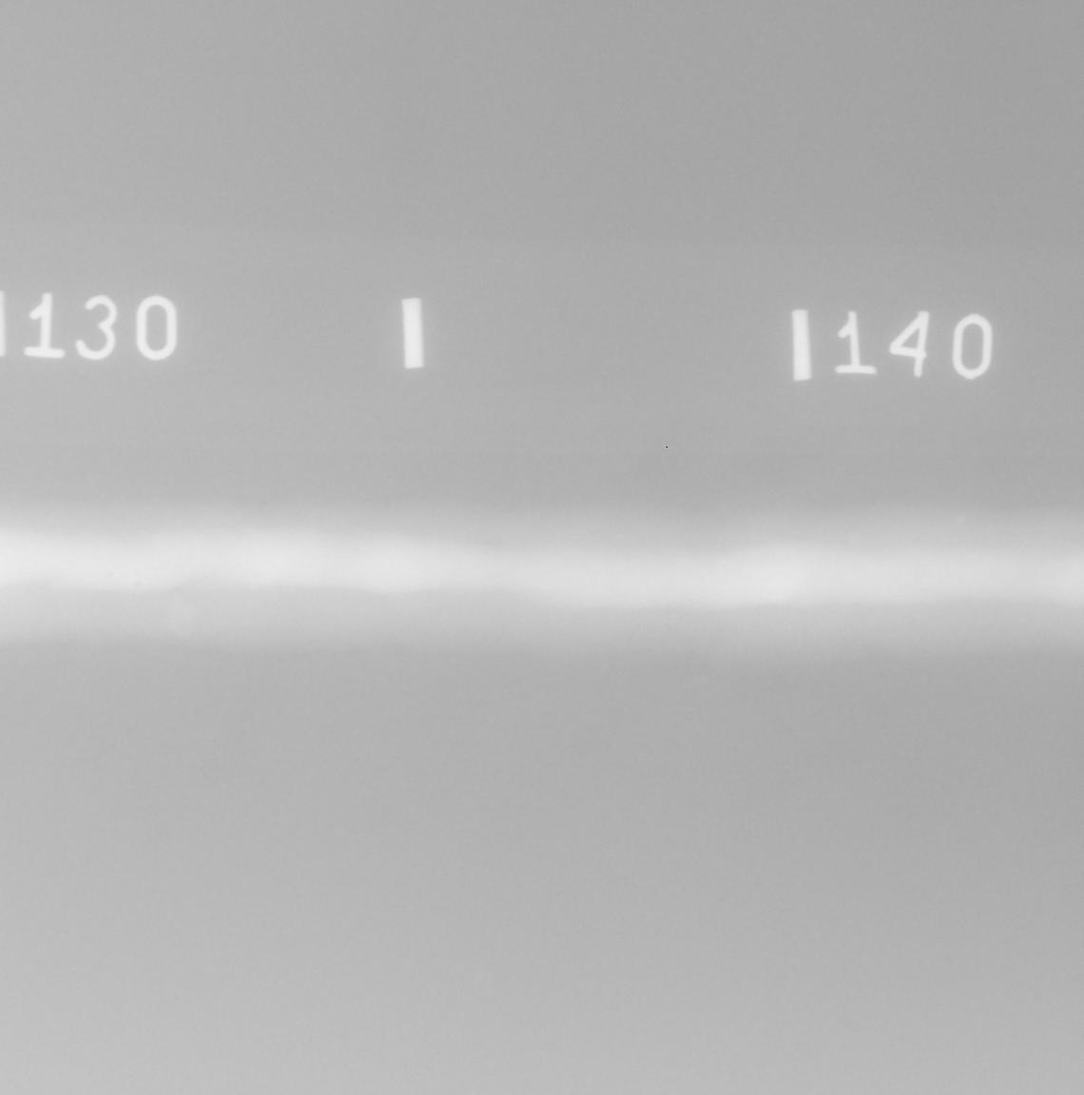Inclusion: (132, 582, 141, 587), (106, 573, 113, 576)
